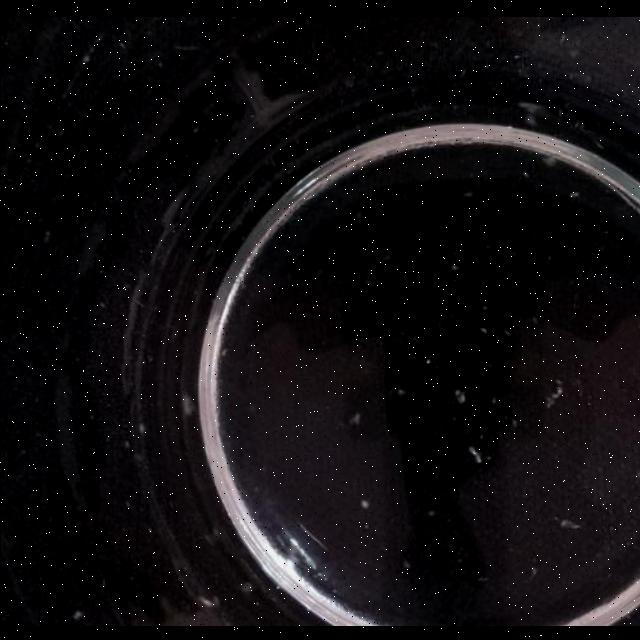Fibre: (542, 378, 564, 408), (182, 392, 194, 414), (558, 518, 580, 528)
microbeads: (453, 386, 465, 402), (348, 410, 360, 424), (240, 580, 252, 592), (218, 346, 228, 359), (72, 608, 82, 620), (360, 497, 370, 508), (402, 558, 412, 568), (450, 260, 460, 270), (502, 326, 512, 336), (509, 415, 517, 427), (138, 420, 146, 432), (396, 385, 404, 395), (478, 325, 488, 333), (427, 506, 435, 516), (488, 393, 496, 403), (569, 189, 579, 197), (520, 170, 530, 178), (462, 190, 473, 197), (122, 437, 128, 447), (424, 356, 430, 364)
